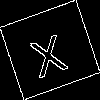X: (24, 25, 69, 79)
